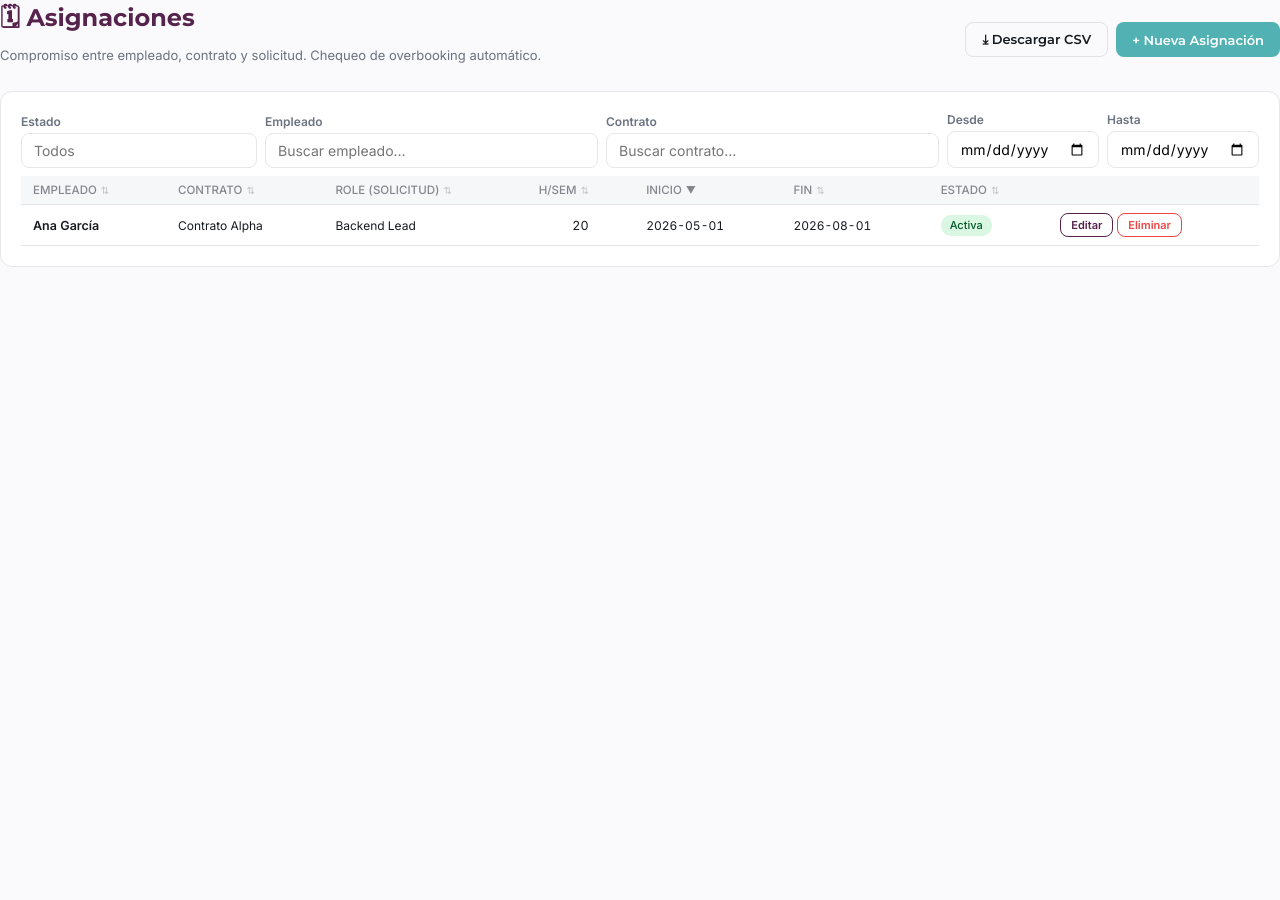
Test: Assignments module › SPEC-007: terminated employees appear in the filter dropdown but not in the form
Expected: the text "Ana García" is shown, x1=21 y1=204 x2=166 y2=246
// Filter dropdown — should include terminated
Focus the field named "Filtro por empleado": point(432, 150) x1=265 y1=133 x2=598 y2=168
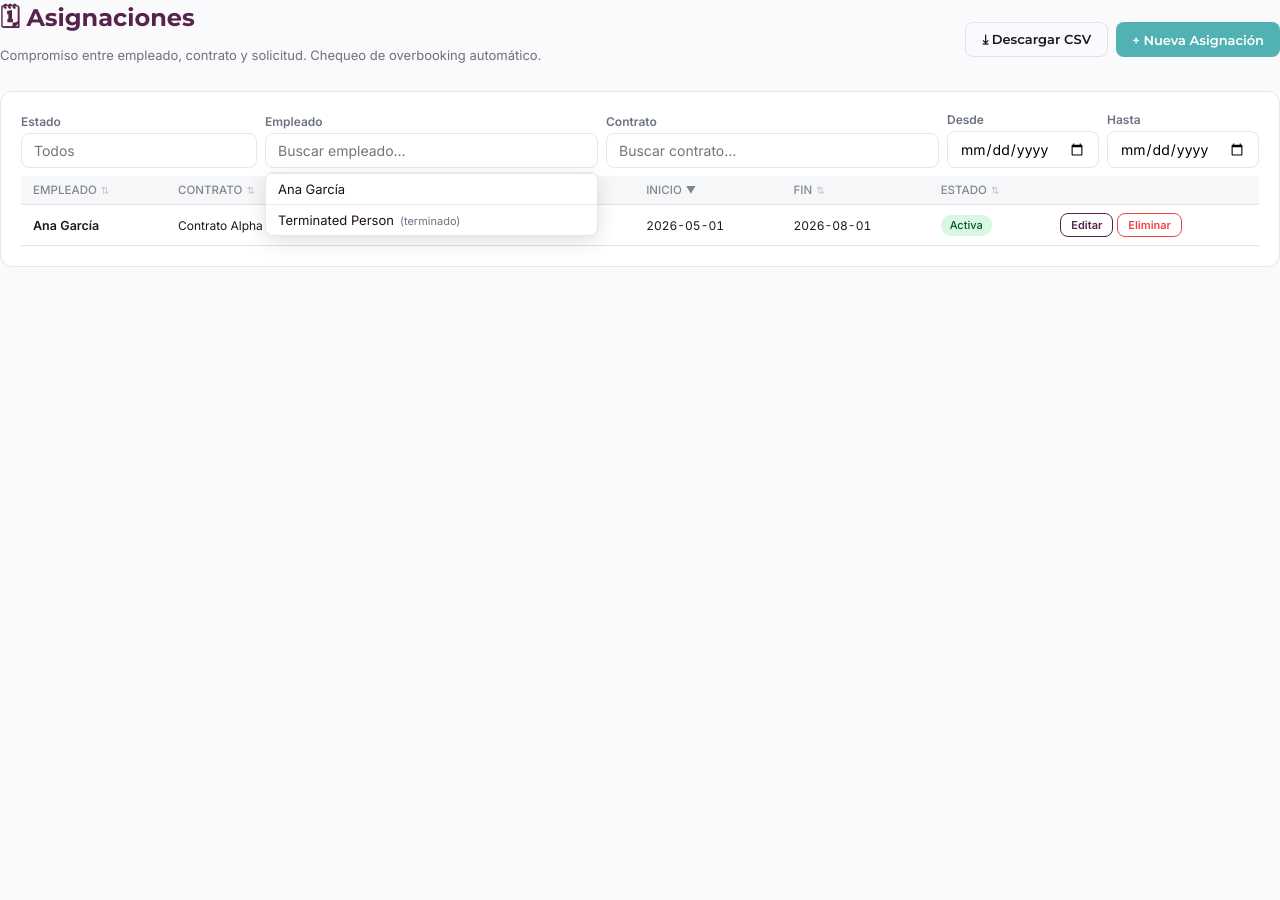
Expected: the option "Terminated Person(terminado)" is shown, x1=266 y1=204 x2=597 y2=235
// Form combobox — should exclude terminated
Click the button "+ Nueva Asignación": point(1198, 40) x1=1116 y1=22 x2=1279 y2=57
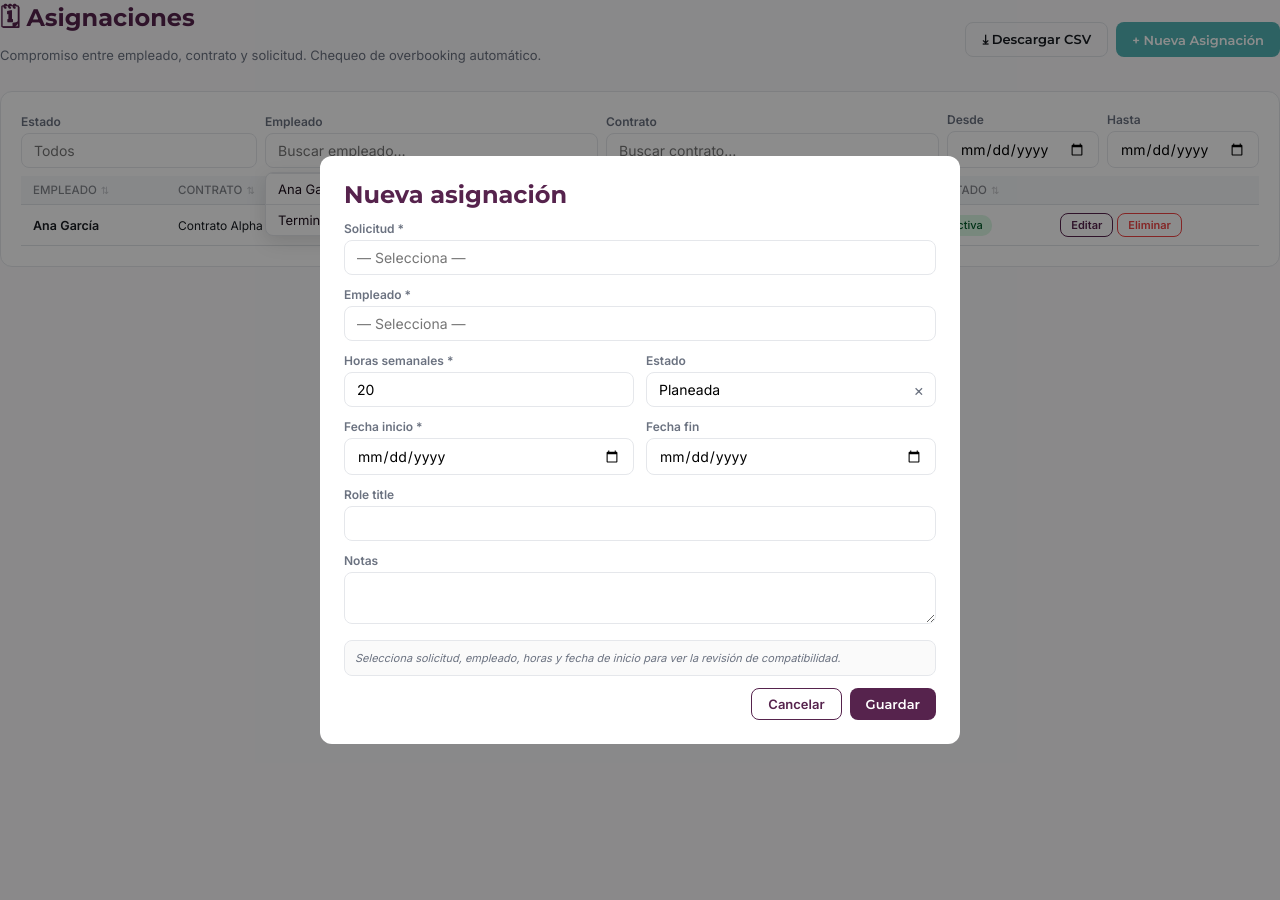
Focus the dropdown labelled "Empleado": point(640, 324) x1=344 y1=306 x2=936 y2=341
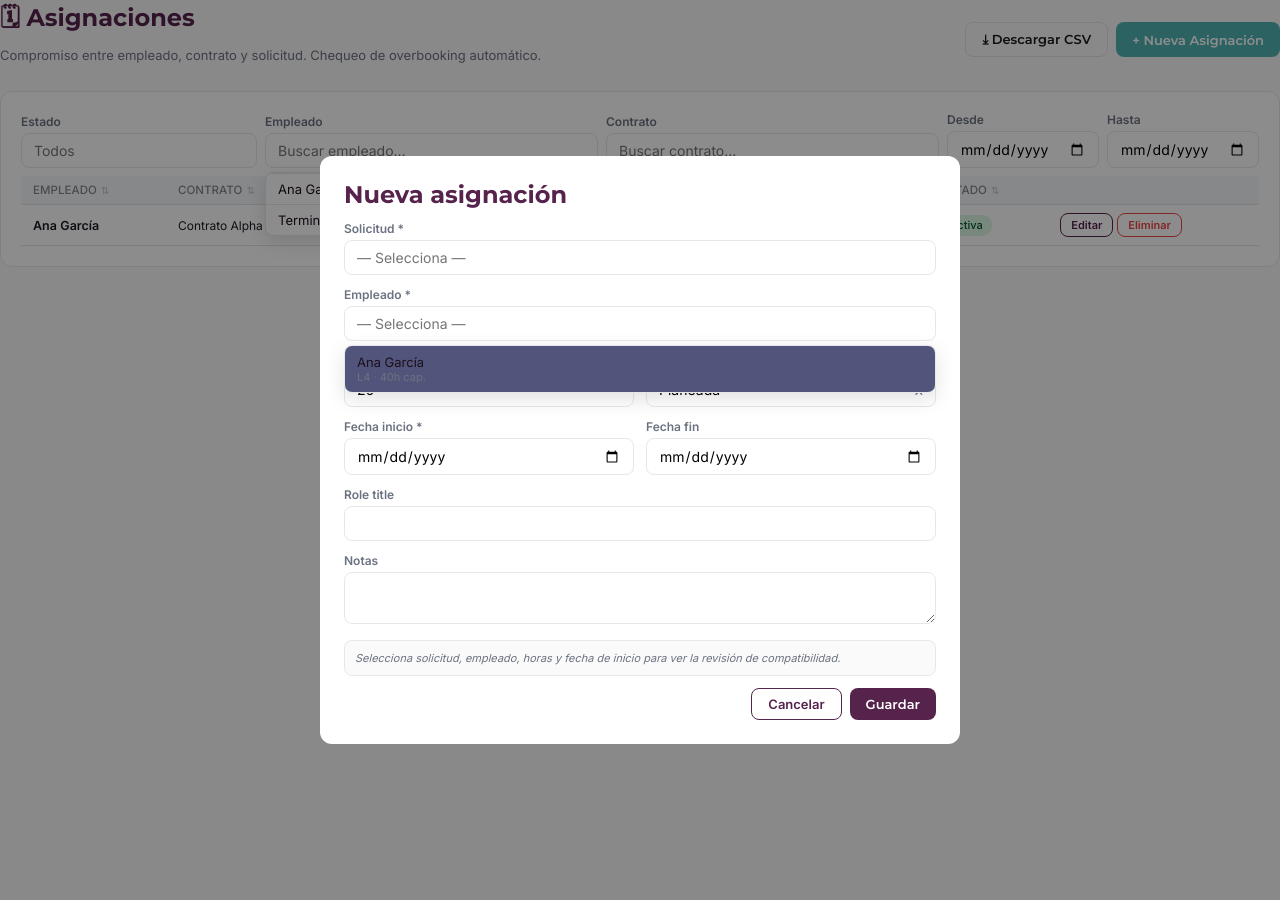
Expected: the text "Ana García" is shown, x1=357 y1=354 x2=424 y2=370
